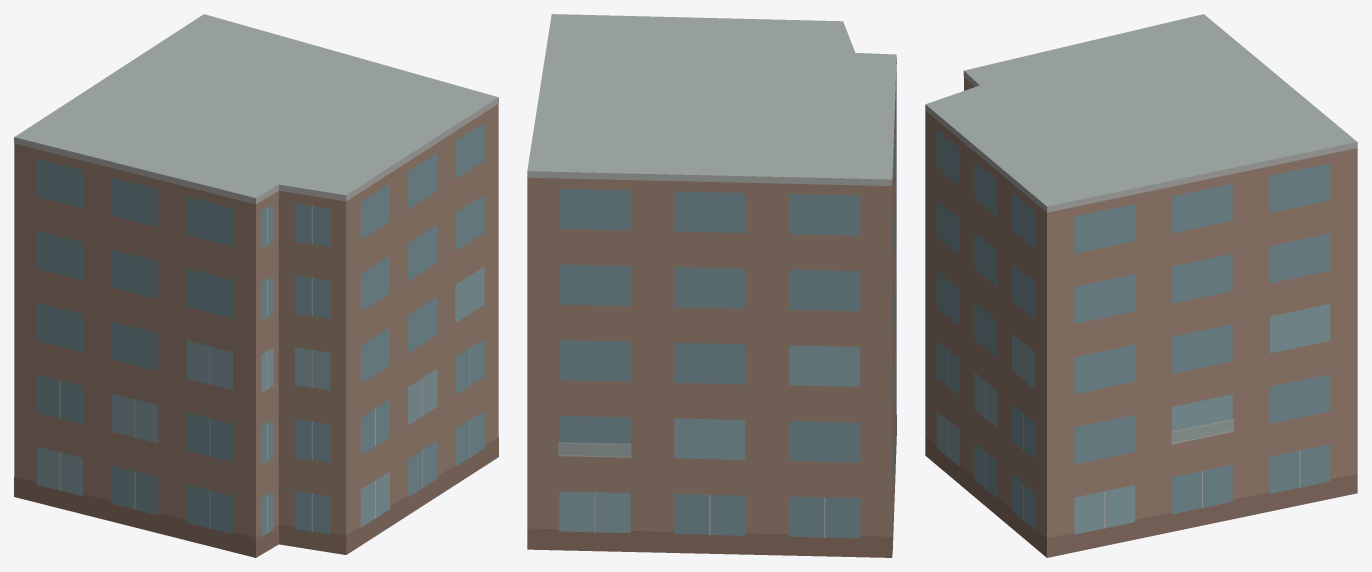
Rendered from survey-upis-32840229.glb.
The picture shows the model from 3 angles, left to right: view 1: azimuth 30°, elevation 25°; view 2: azimuth 150°, elevation 25°; view 3: azimuth 270°, elevation 25°; orthographic projection. The views are drawn at different scales.
Parts seen in each view (by area): view 1: survey-upis-32840229.tmp; view 2: survey-upis-32840229.tmp; view 3: survey-upis-32840229.tmp.
Boxes of the visible parts, bbox=[...] form: survey-upis-32840229.tmp: bbox=[14, 14, 498, 557]; survey-upis-32840229.tmp: bbox=[527, 14, 896, 557]; survey-upis-32840229.tmp: bbox=[925, 14, 1357, 557].
Size of the model in its own units: 16.62 by 14.12 by 15.76.
